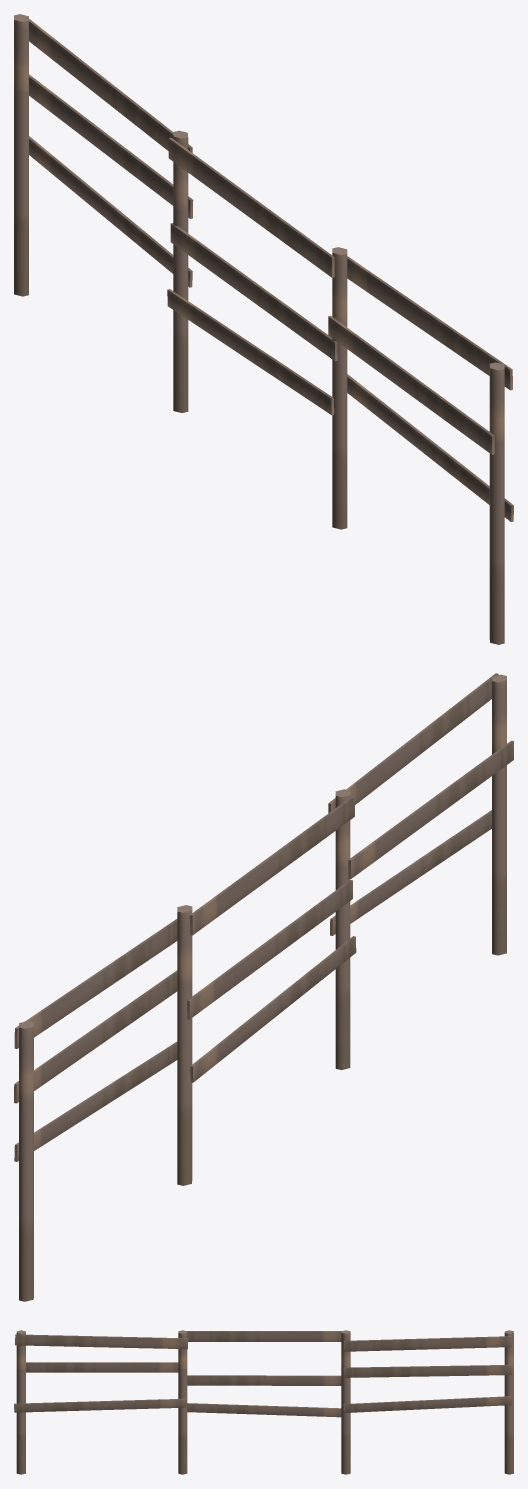
The model's file is WoodFence01c.fbx.
3 renders of one model, top to bottom at view 1: azimuth 30°, elevation 25°; view 2: azimuth 150°, elevation 25°; view 3: azimuth 270°, elevation 25°, orthographic. The views are drawn at different scales.
Parts seen in each view (by area): view 1: WoodFence01c; view 2: WoodFence01c; view 3: WoodFence01c.
Part boxes in pixels (x1,y1,x2,y2): WoodFence01c: (14,14,513,644); WoodFence01c: (14,673,513,1301); WoodFence01c: (14,1330,513,1474).
Bounding box in the file's own units: 0.0922 × 1.17 × 3.76.
